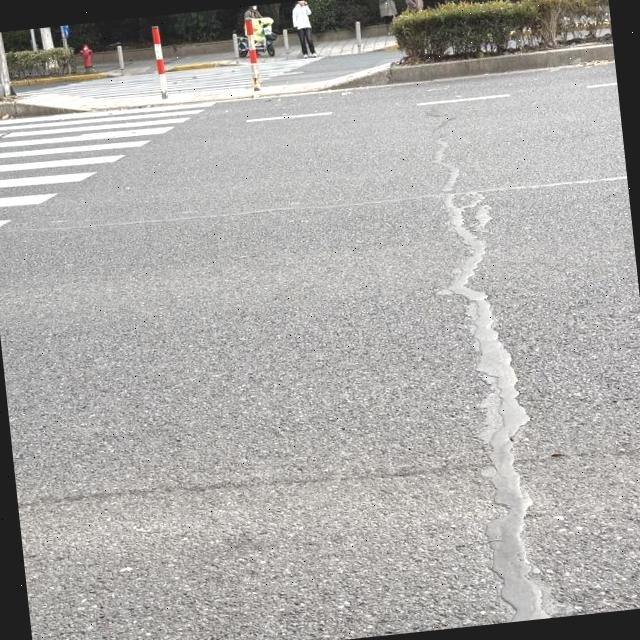curb: (324, 44, 612, 89), (12, 71, 112, 87), (0, 100, 84, 118), (167, 60, 237, 71), (368, 44, 398, 50)
